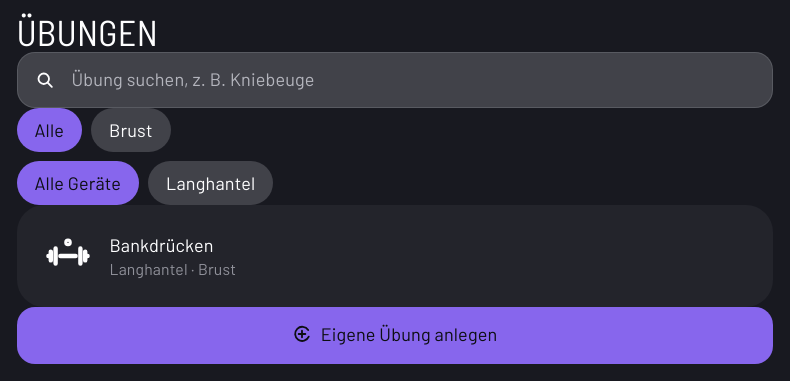
ExercisesPage › says so when nothing matches
Type "zzzz" into the field labelled "suche" at (394, 80), box [16,52,772,108]
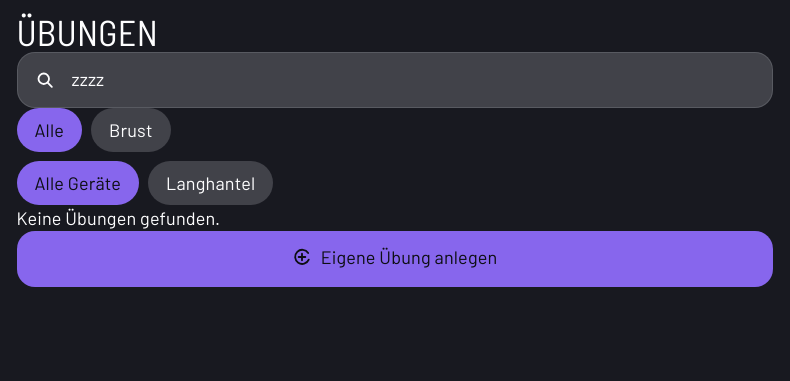
expect the text "Keine Übungen gefunden." is shown: met, box [16,207,220,229]
